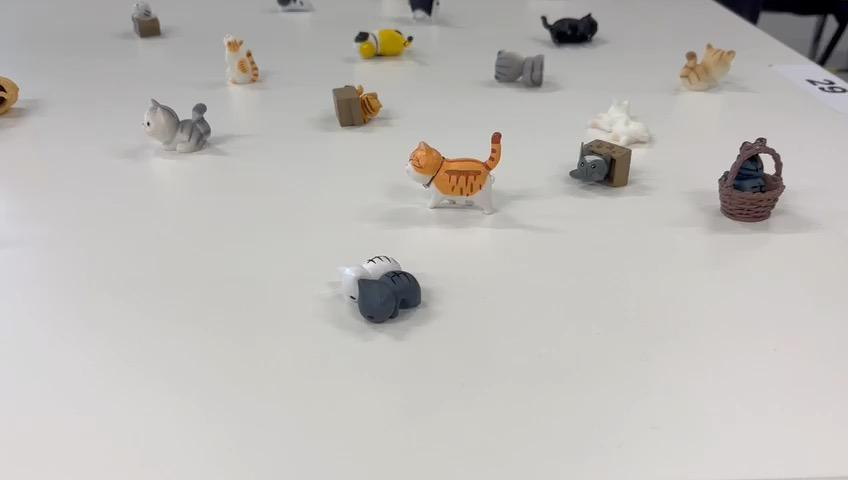pet: (403, 129, 507, 222), (336, 249, 426, 329), (714, 133, 790, 225), (140, 93, 216, 157), (586, 96, 659, 147), (678, 39, 739, 94), (569, 140, 632, 191), (330, 81, 384, 131), (491, 44, 547, 91), (219, 29, 262, 87), (539, 10, 601, 49), (352, 25, 417, 61), (129, 0, 165, 41)
